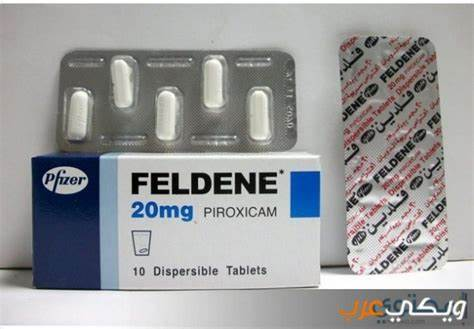Medicine: (24, 148, 334, 296), (336, 28, 457, 280)
